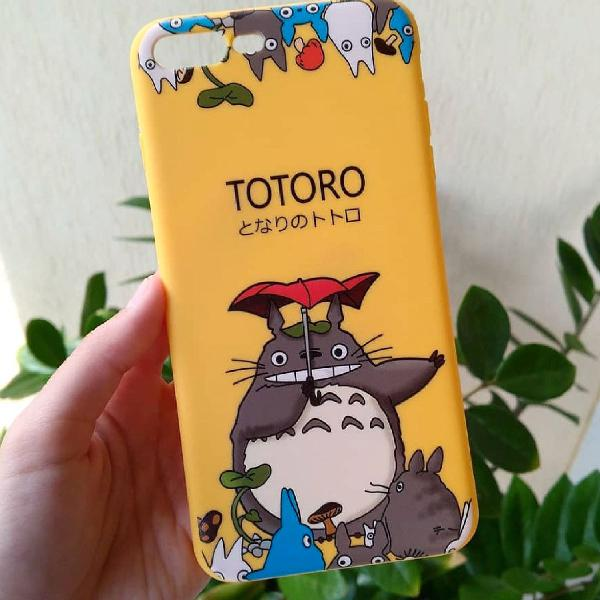Totoro: (227, 294, 450, 543)
